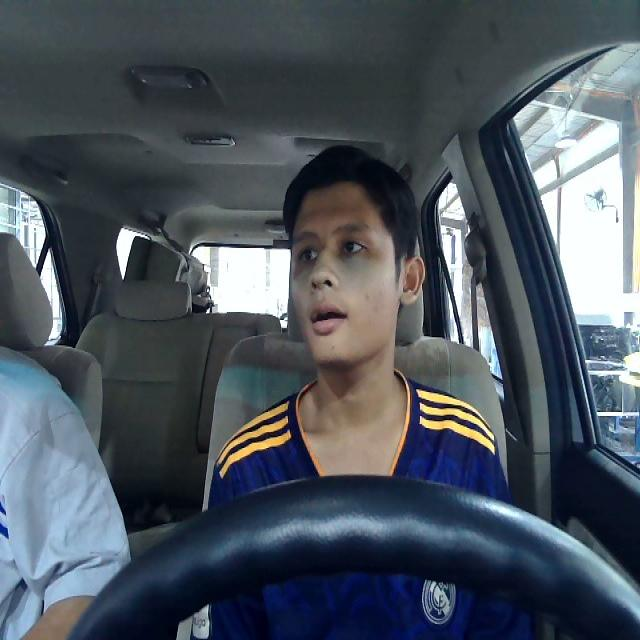yarning: (284, 180, 426, 367)
